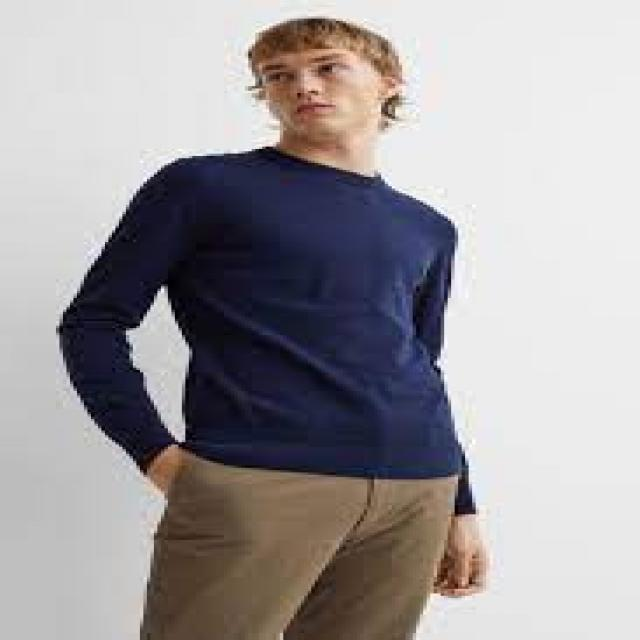plain: (58, 138, 471, 490)
